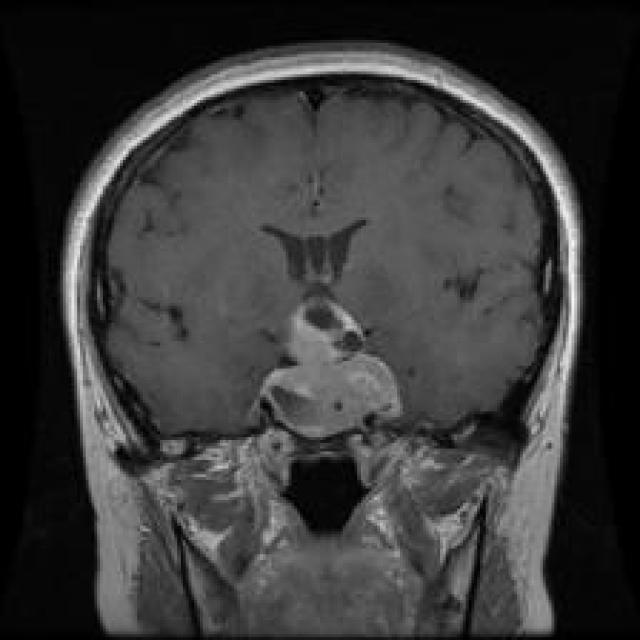pituitary_tumor: (243, 288, 420, 450)
